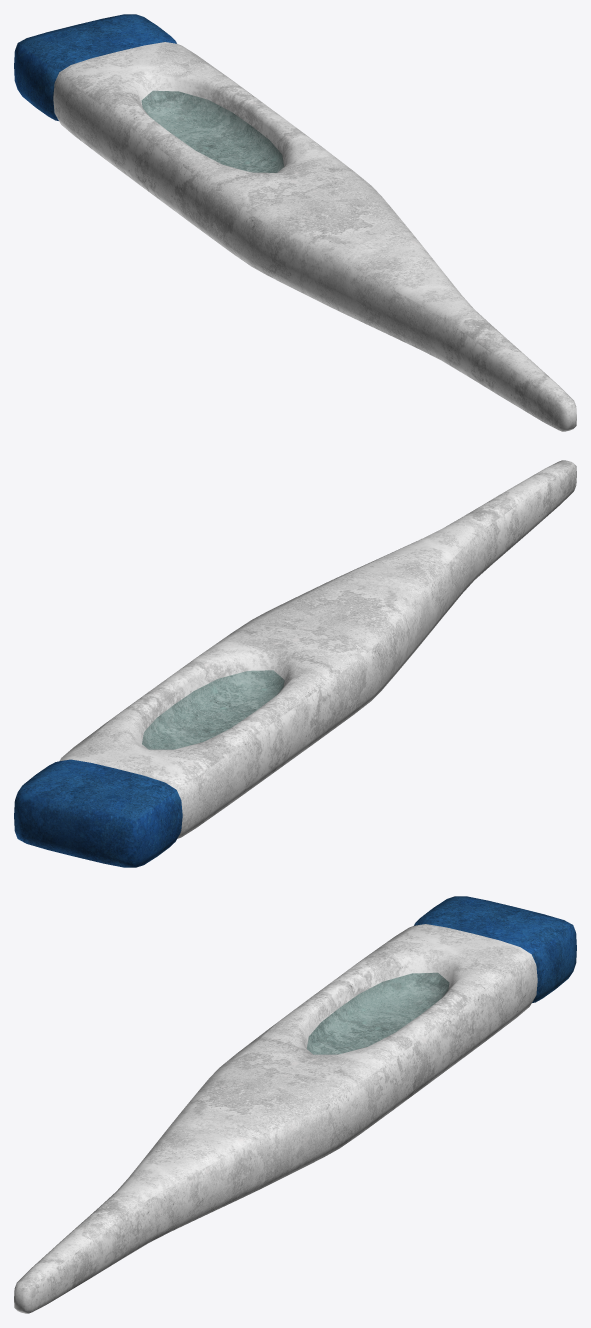
File: Thermometer.fbx
3 views of the same model, one above another, from view 1: azimuth 30°, elevation 25°; view 2: azimuth 150°, elevation 25°; view 3: azimuth 330°, elevation 25° (orthographic).
Parts seen in each view (by area): view 1: Cube; view 2: Cube; view 3: Cube.
Boxes of the visible parts, <box> form: Cube: <box>14,14,576,431</box>; Cube: <box>14,460,576,867</box>; Cube: <box>14,896,576,1313</box>.
Bounding box in the file's own units: 6.86 × 3.26 × 43.83.
1 material, 1 textured.
